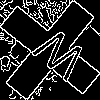W: (25, 25, 90, 90)
